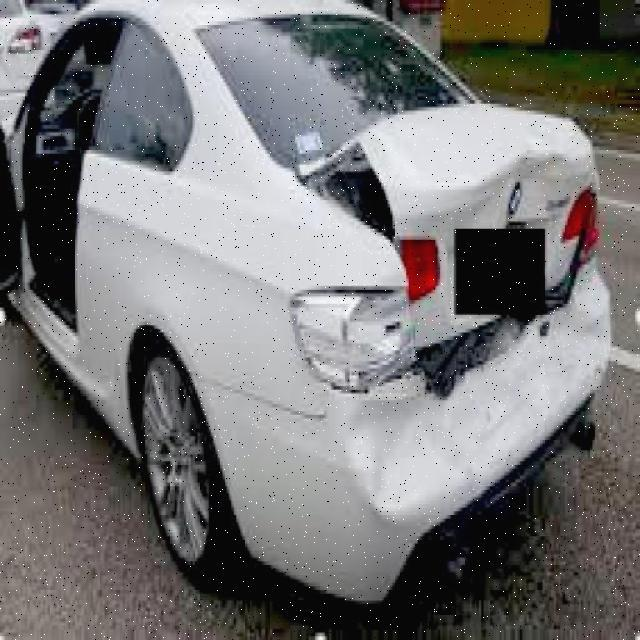car damage: (286, 106, 615, 540)
